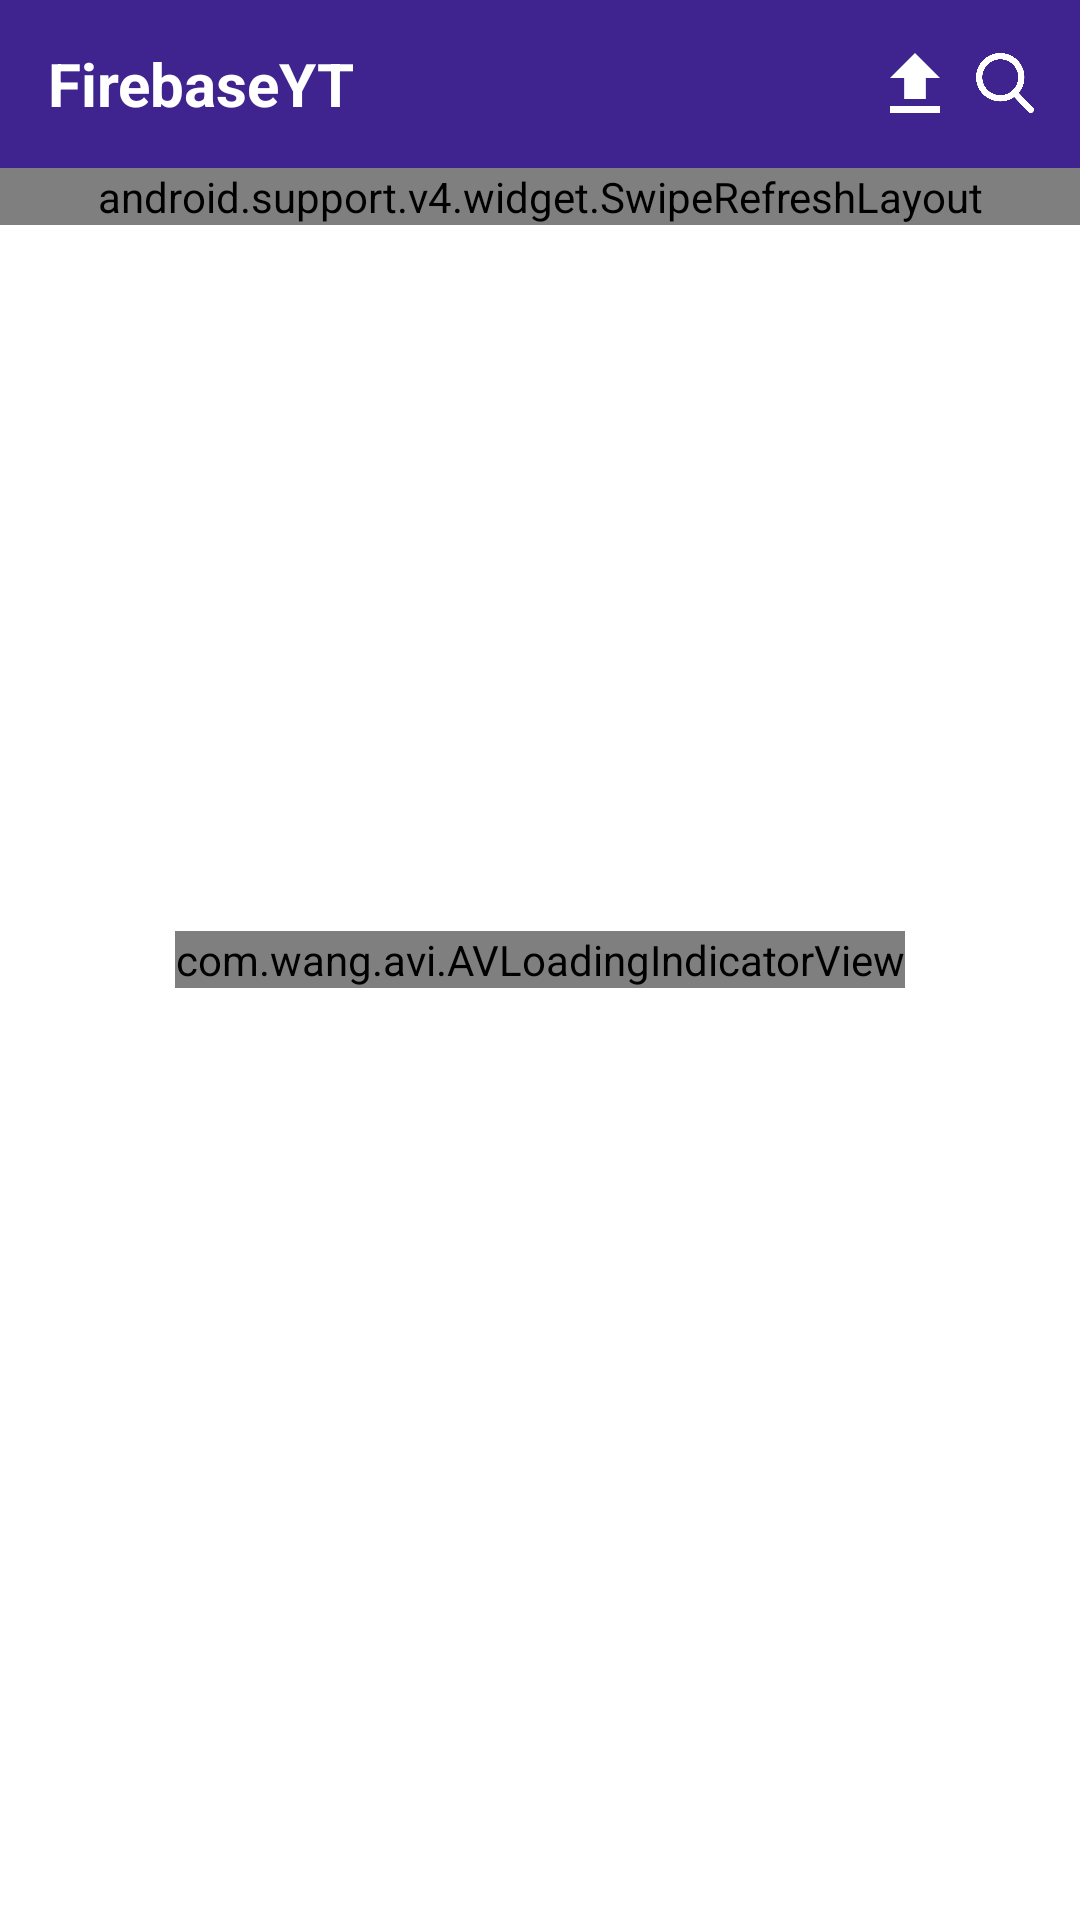

Where icons sit on this 1080px x 1920px app screen, as (x1, y1, x2, y2):
search: (976, 53, 1034, 113)
uploadbutton: (890, 53, 940, 113)
